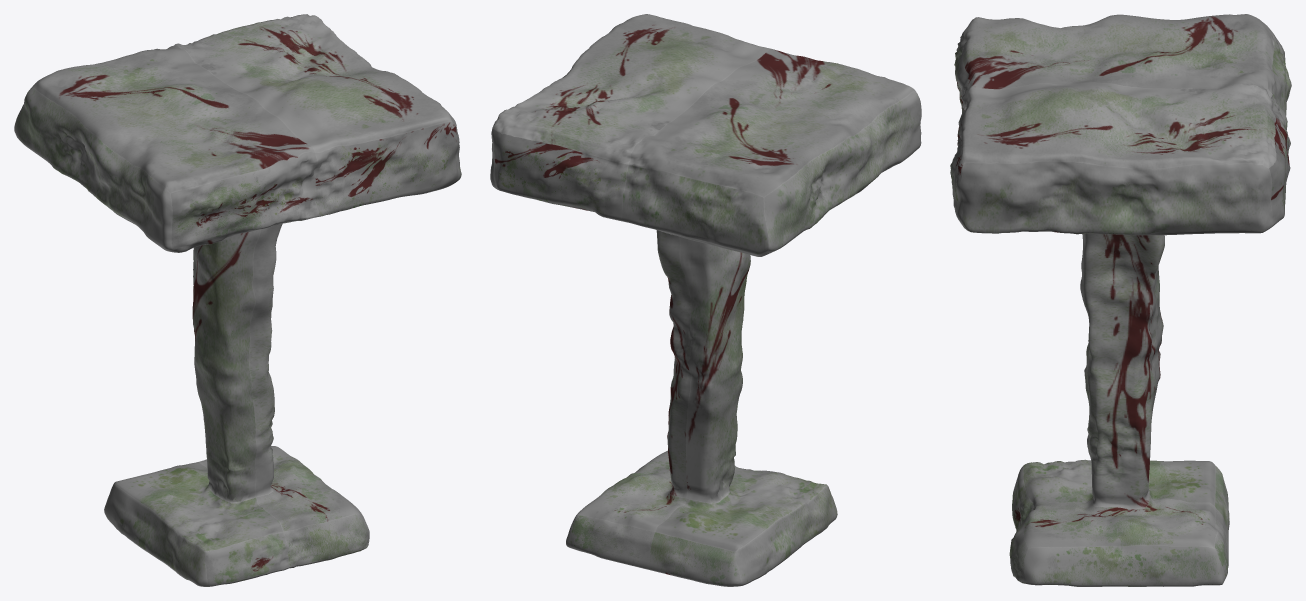
Rendered from Altar.fbx.
3 renders of one model, left to right at view 1: azimuth 30°, elevation 25°; view 2: azimuth 150°, elevation 25°; view 3: azimuth 270°, elevation 25°, orthographic. The views are drawn at different scales.
Parts seen in each view (by area): view 1: Cube; view 2: Cube; view 3: Cube.
Part boxes in pixels (left/top/right/bottom): Cube: left=14, top=14, right=461, bottom=586; Cube: left=490, top=14, right=921, bottom=586; Cube: left=950, top=14, right=1291, bottom=586.
Bounding box in the file's own units: 89.84 × 126 × 82.65.
1 material, 1 textured.
